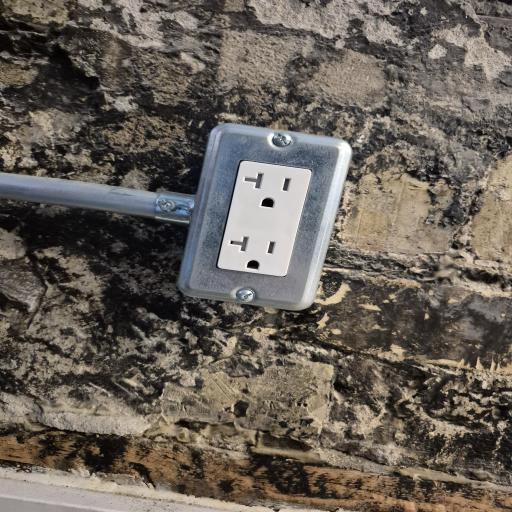outlet: (199, 130, 328, 311)
